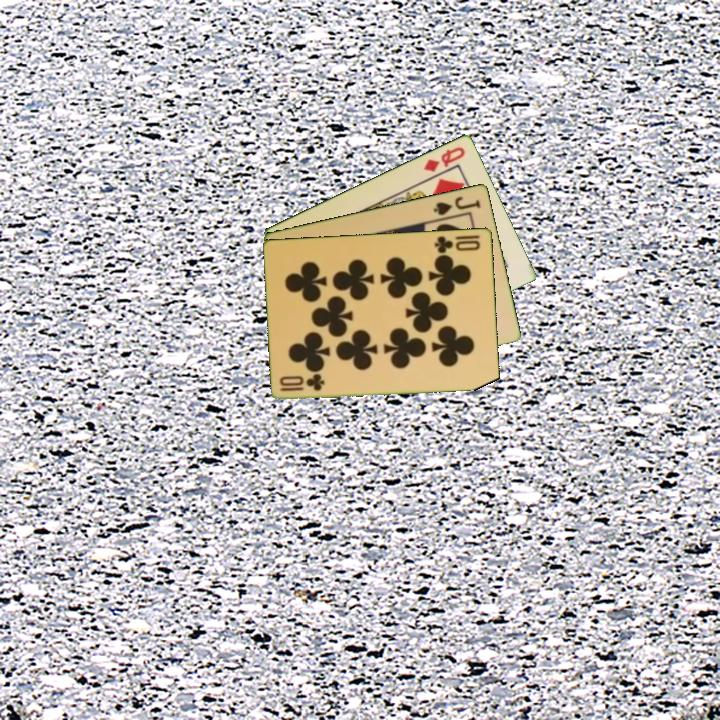10c: (431, 232, 483, 256), (277, 372, 328, 394)
Js: (430, 192, 483, 218)
Qd: (420, 143, 468, 174)
